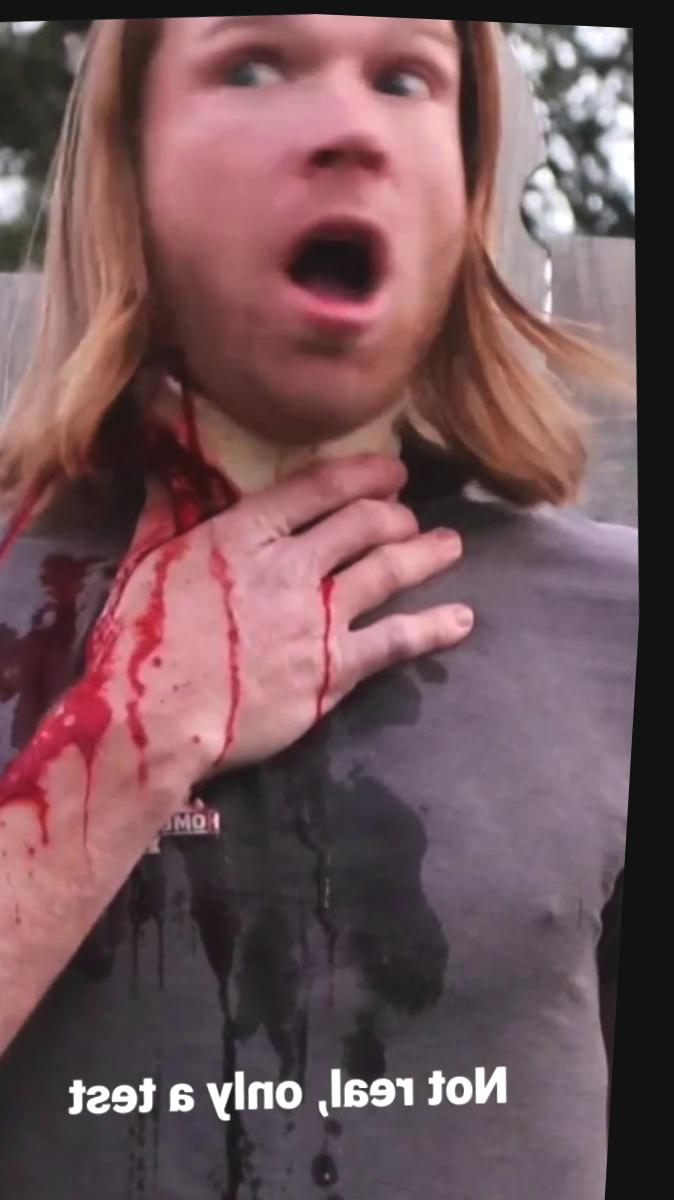Fire: (0, 396, 244, 778), (0, 537, 188, 837), (216, 536, 252, 769), (316, 567, 351, 727), (351, 619, 364, 634)
